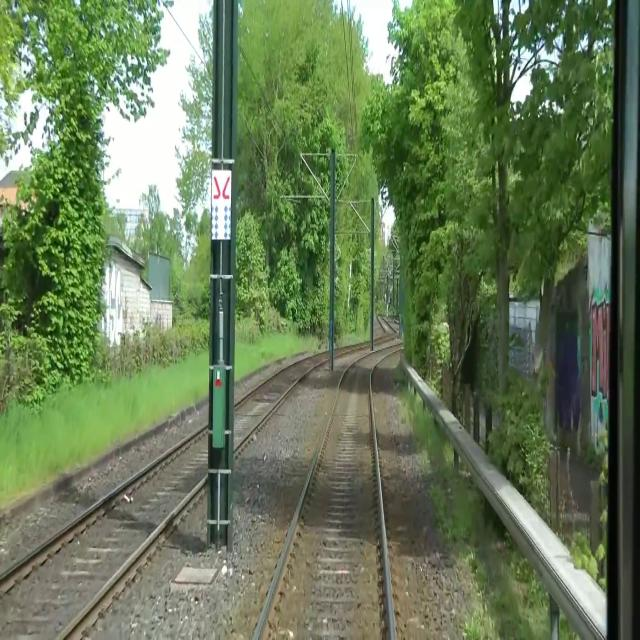rail-track: (0, 427, 208, 639), (258, 346, 396, 639), (232, 353, 329, 444), (378, 316, 394, 338)
